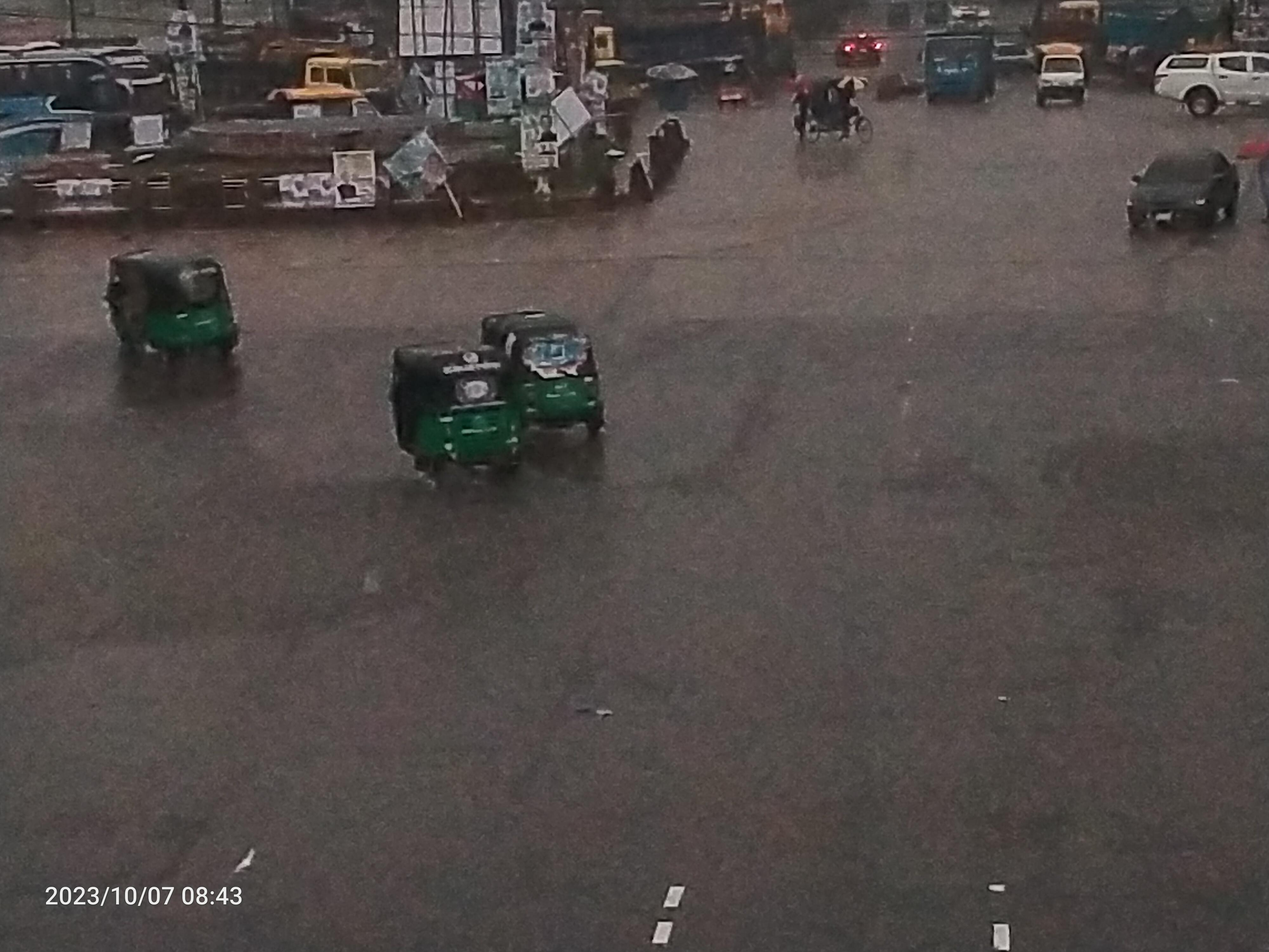Bus: (0, 19, 169, 163), (918, 12, 1005, 122)
Car: (1109, 125, 1269, 258), (1139, 43, 1269, 143), (1033, 31, 1106, 131), (832, 29, 894, 75)
Truck: (198, 41, 397, 127)
